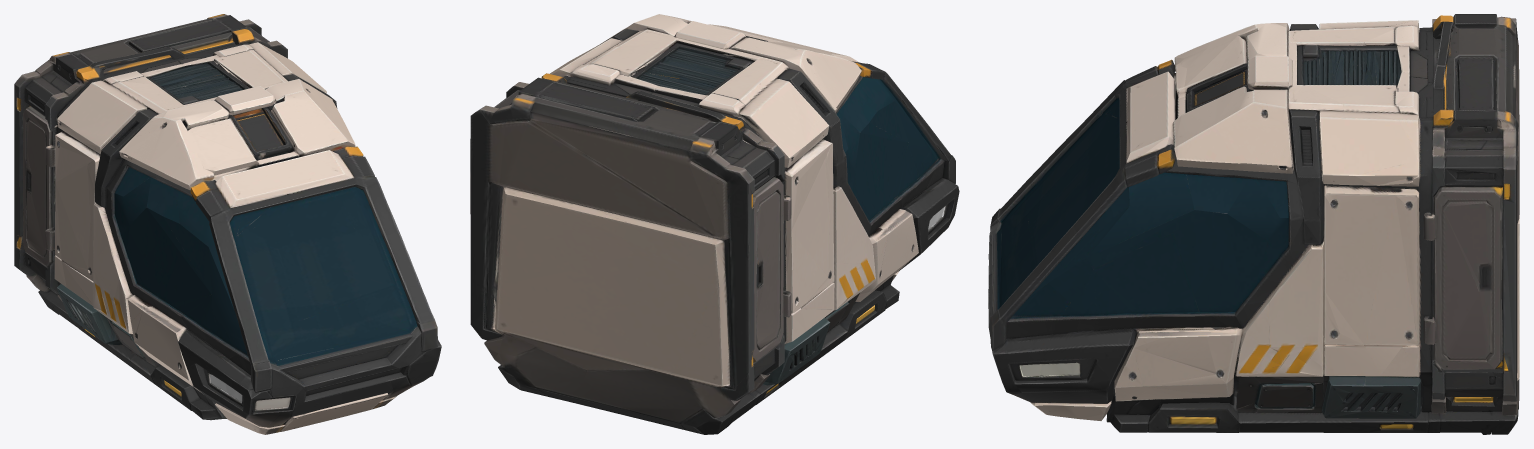
File: Cockpit.fbx
The picture shows the model from 3 angles, left to right: view 1: azimuth 30°, elevation 25°; view 2: azimuth 150°, elevation 25°; view 3: azimuth 270°, elevation 25°; orthographic projection. The views are drawn at different scales.
Parts seen in each view (by area): view 1: Cockpit_Geometry; view 2: Cockpit_Geometry; view 3: Cockpit_Geometry.
Part boxes in pixels (x1=…): Cockpit_Geometry: x1=14, y1=14, x2=441, y2=434; Cockpit_Geometry: x1=470, y1=14, x2=959, y2=434; Cockpit_Geometry: x1=988, y1=14, x2=1519, y2=434.
Bounding box in the file's own units: 200 × 200 × 300.
Materials: 1 (1 with a texture image).
